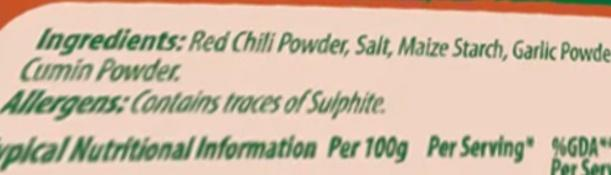ingredients: (2, 14, 595, 173)
